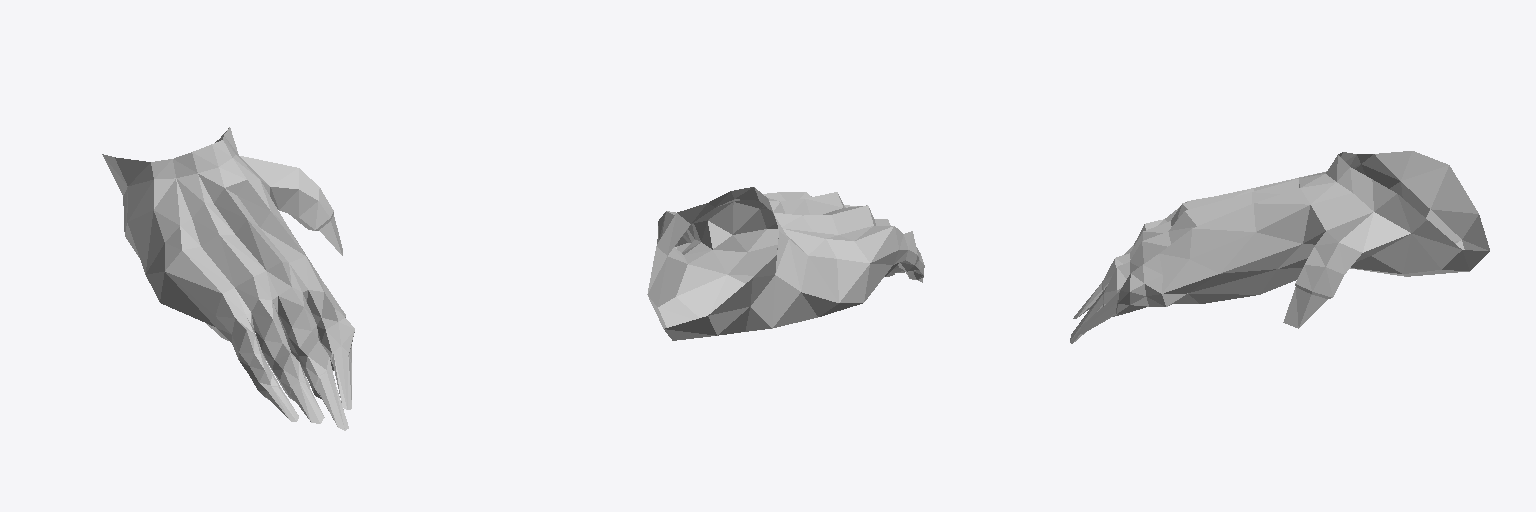
Rendered from Foot_Right.obj.
3 views of the same model, side by side, from view 1: azimuth 30°, elevation 25°; view 2: azimuth 150°, elevation 25°; view 3: azimuth 270°, elevation 25° (orthographic).
Parts seen in each view (by area): view 1: Foot.001_Cube.001; view 2: Foot.001_Cube.001; view 3: Foot.001_Cube.001.
Boxes of the visible parts, x1=… form: Foot.001_Cube.001: x1=102, y1=127, x2=354, y2=430; Foot.001_Cube.001: x1=647, y1=187, x2=924, y2=340; Foot.001_Cube.001: x1=1070, y1=151, x2=1489, y2=343.
Size of the model in its own units: 3.05 by 2.83 by 5.74.